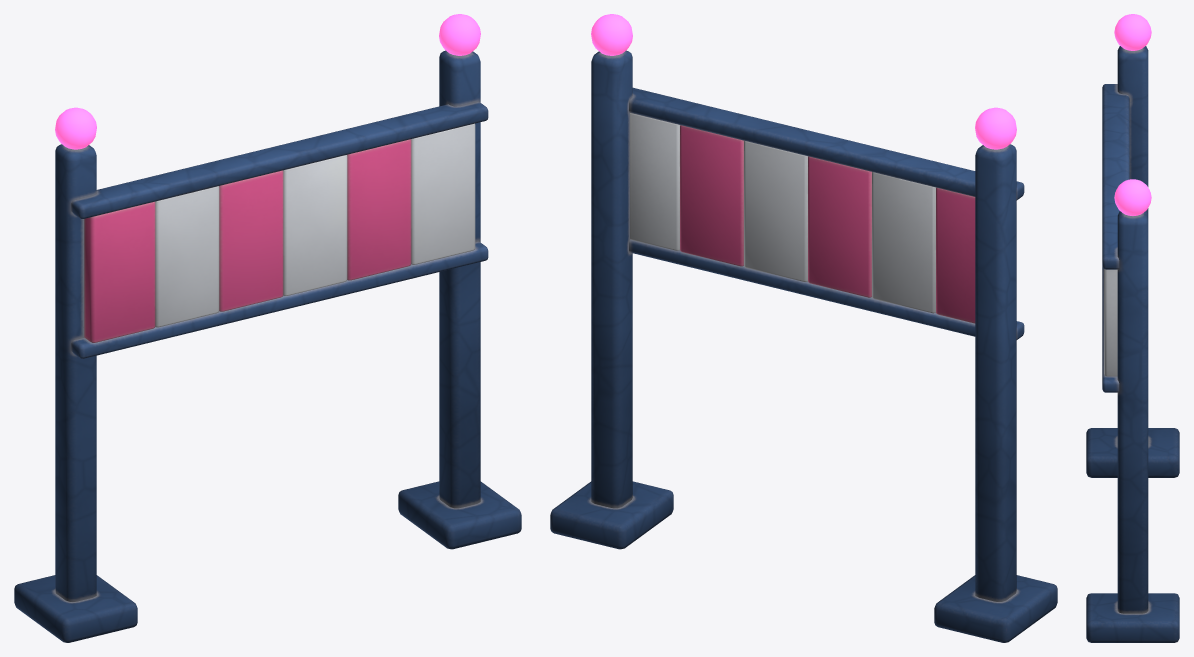
File: mu_obstacle_pipe_gate.glb
3 views of the same model, side by side, from view 1: azimuth 30°, elevation 25°; view 2: azimuth 150°, elevation 25°; view 3: azimuth 270°, elevation 25° (orthographic). The views are drawn at different scales.
Visible parts, largest first — view 1: mu_obstacle_pipe_gate; view 2: mu_obstacle_pipe_gate; view 3: mu_obstacle_pipe_gate.
Part boxes in pixels (x1,y1,x2,y2): mu_obstacle_pipe_gate: [14, 14, 521, 642]; mu_obstacle_pipe_gate: [550, 14, 1057, 642]; mu_obstacle_pipe_gate: [1086, 14, 1179, 642].
Size of the model in its own units: 2.75 by 2.91 by 0.55.
4 materials, 4 textured.
